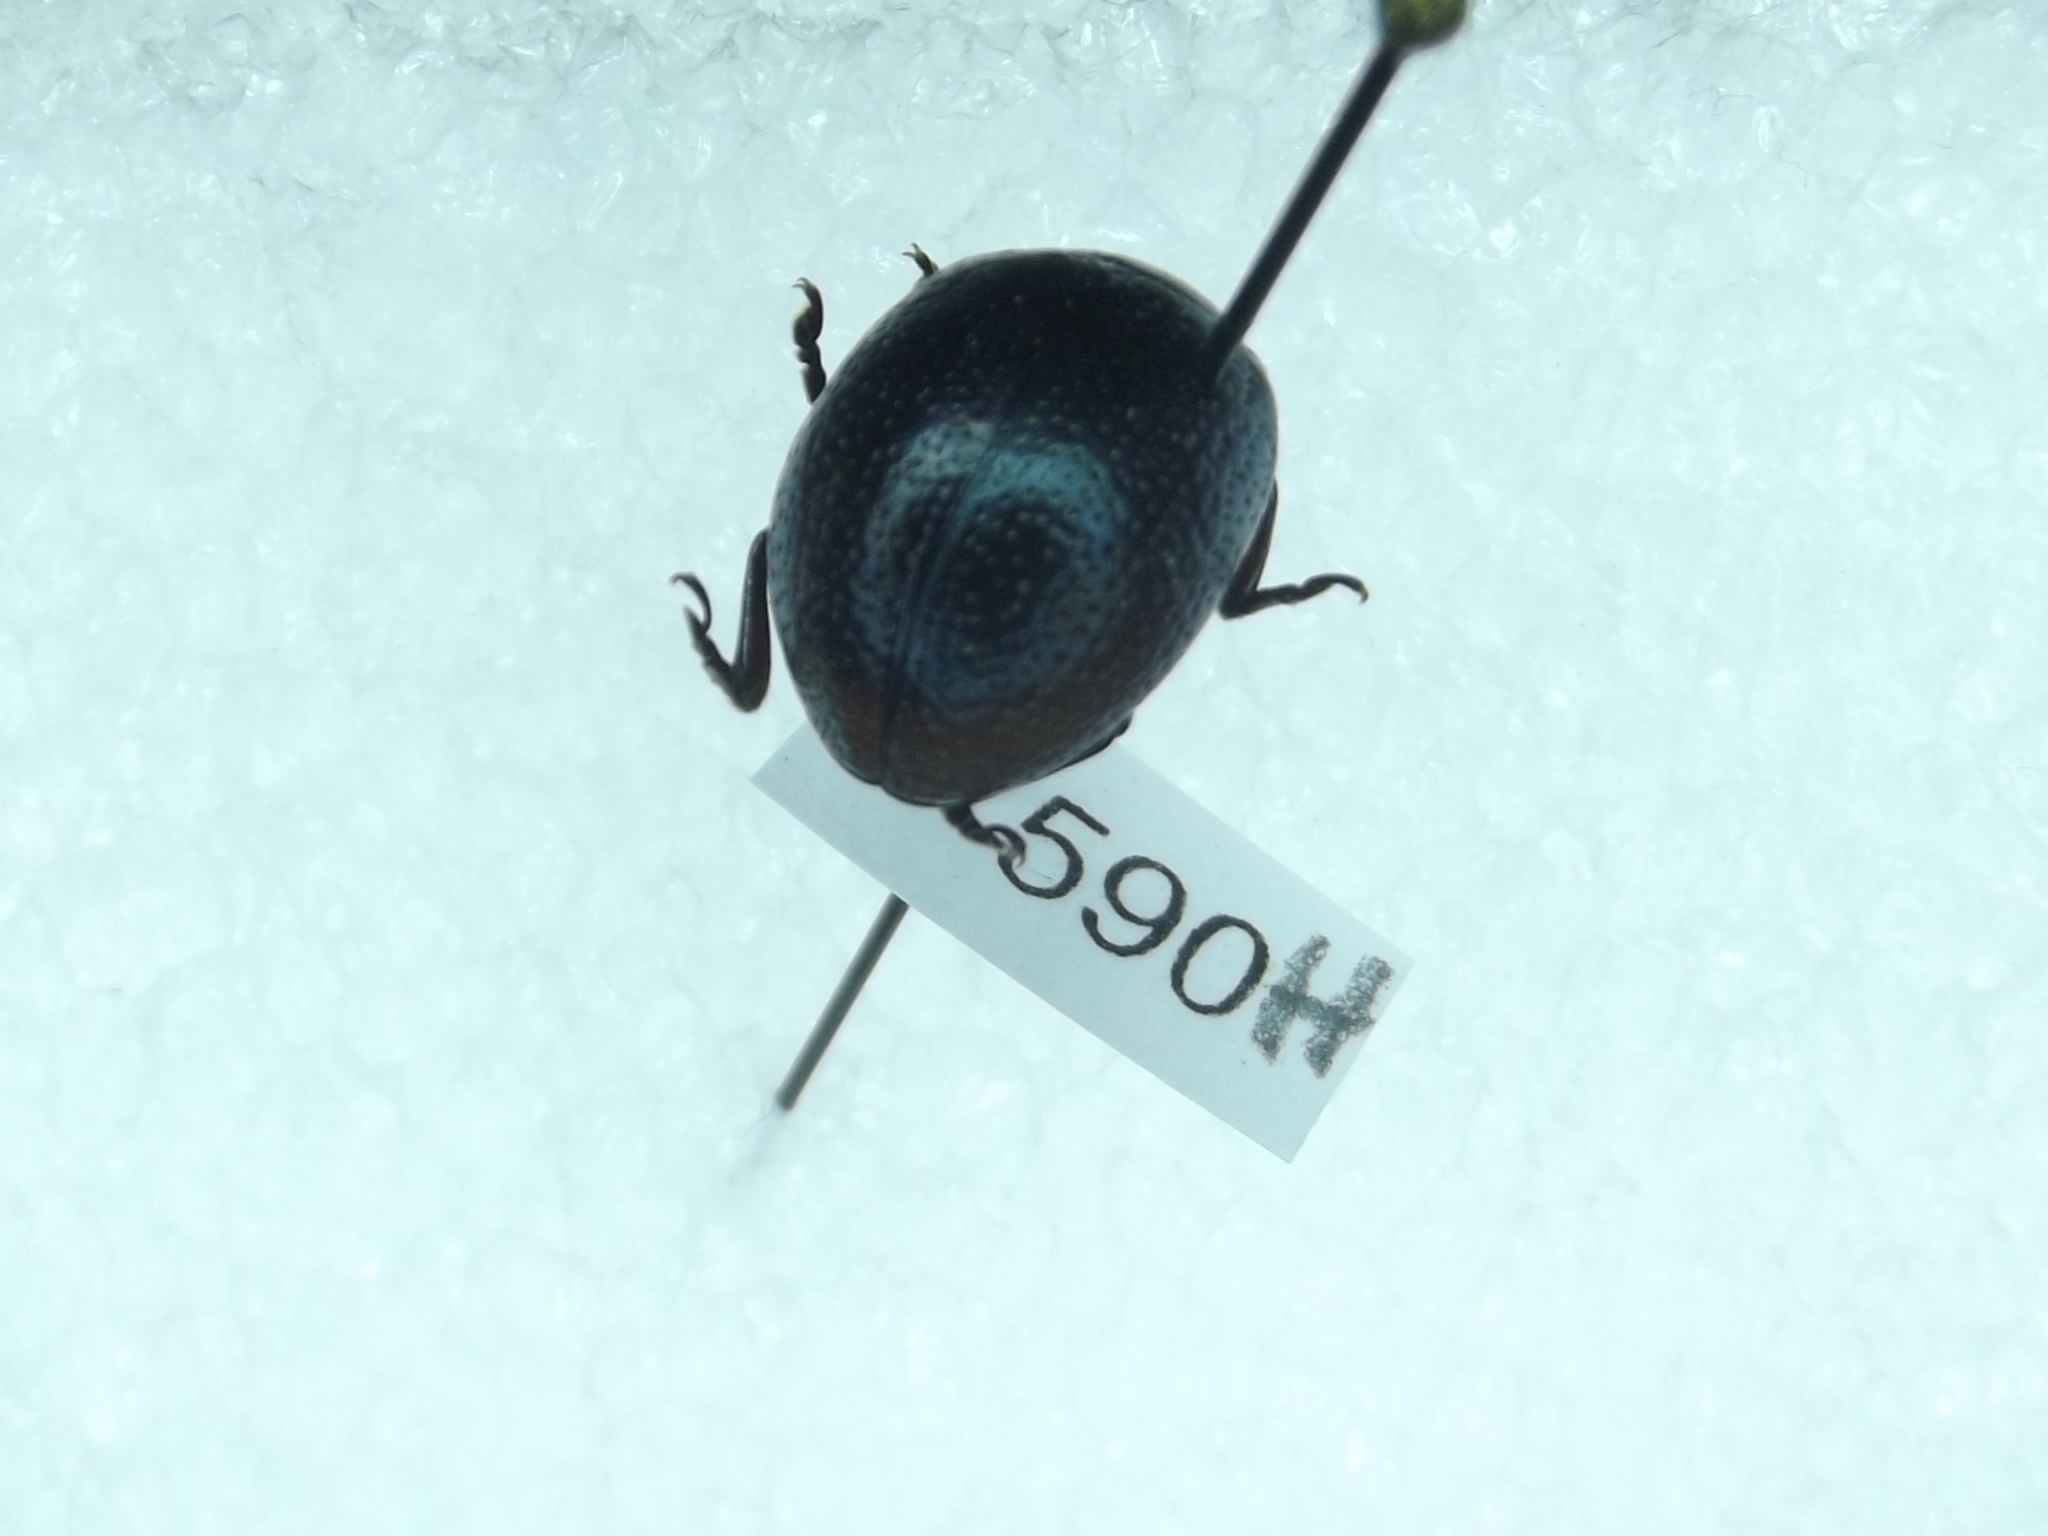Chrysolina_oricalcia: (664, 231, 1374, 871)
